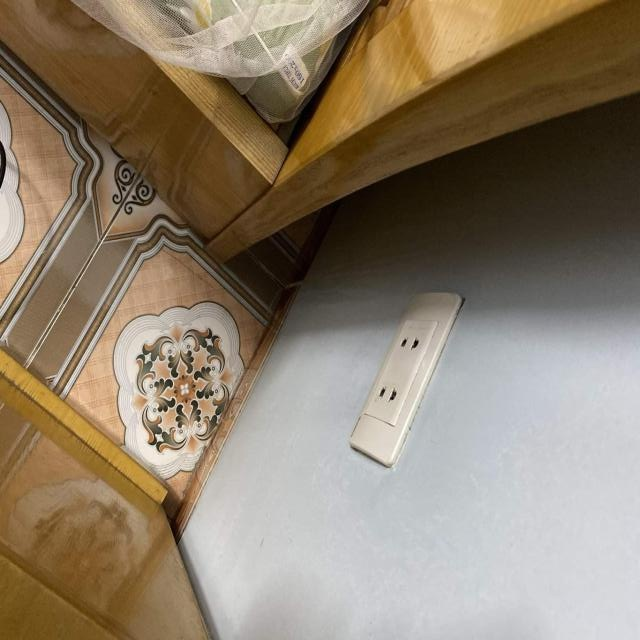outlet: (348, 290, 465, 467)
